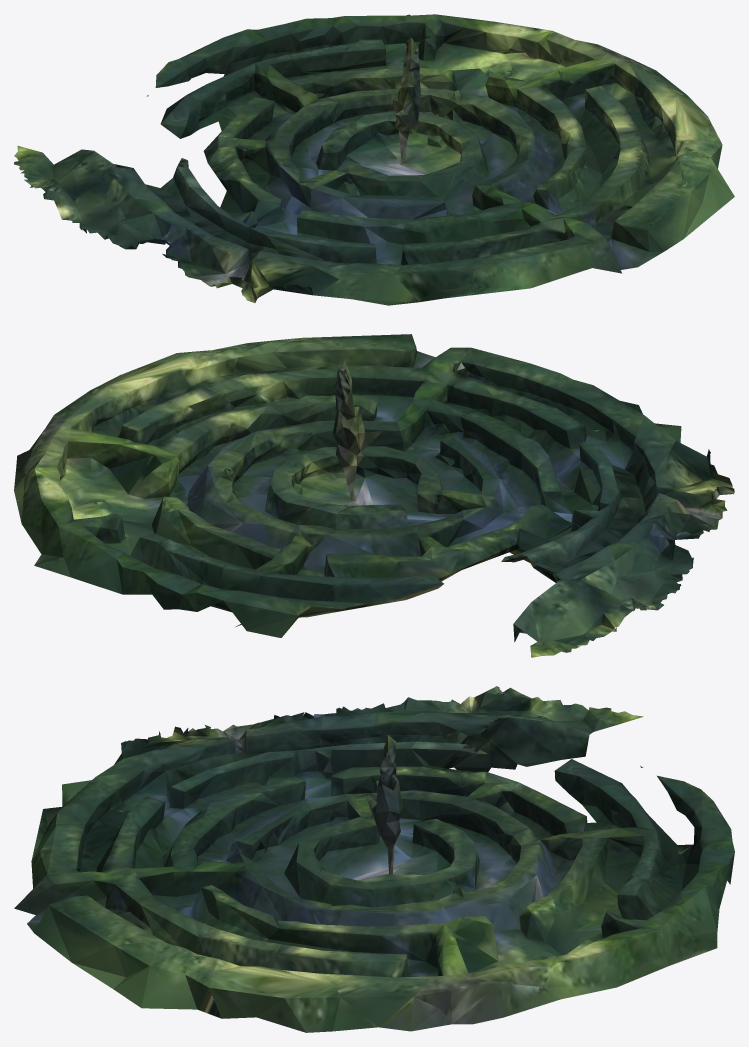
File: bush_labyrinth.fbx
The picture shows the model from 3 angles, top to bottom: view 1: azimuth 30°, elevation 25°; view 2: azimuth 150°, elevation 25°; view 3: azimuth 270°, elevation 25°; orthographic projection. The views are drawn at different scales.
Visible parts, largest first — view 1: labirinto; view 2: labirinto; view 3: labirinto.
Part boxes in pixels (x1,y1,x2,y2): labirinto: [14, 14, 734, 305]; labirinto: [14, 334, 734, 657]; labirinto: [14, 686, 734, 1032].
Size of the model in its own units: 4483 by 1165 by 4125.
